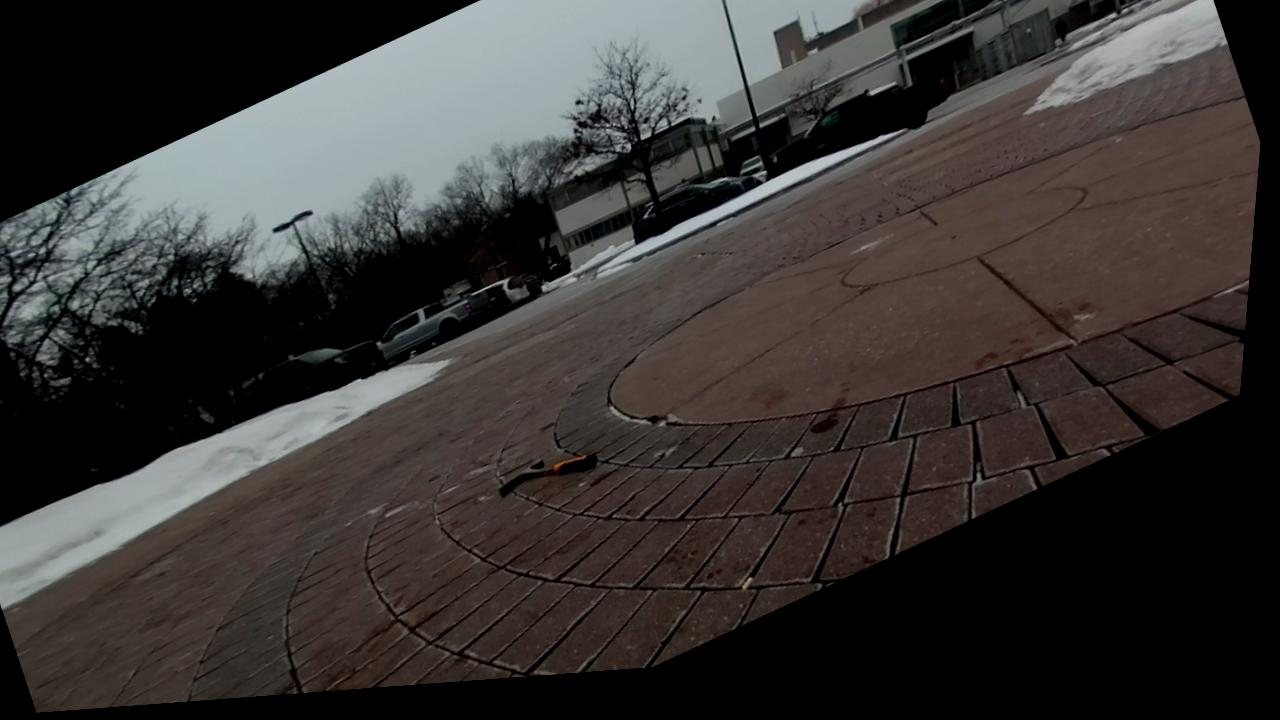pick: (500, 453, 598, 496)
